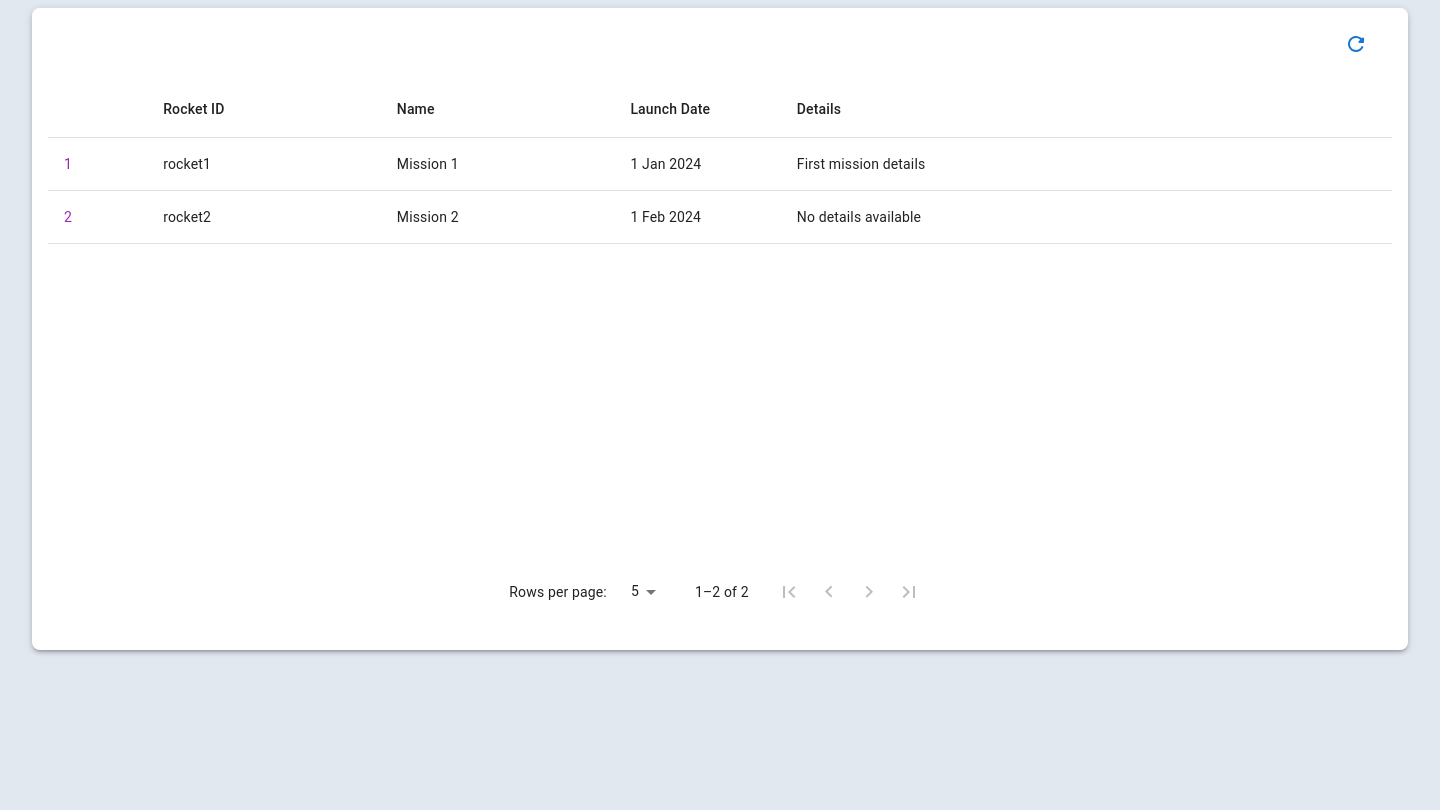
Test: LaunchDataTable › Sorting › sorts by date in ascending and descending order
First click - ascending
Click the button "Launch Date" at coordinates (670, 109), box [630,101,710,117]
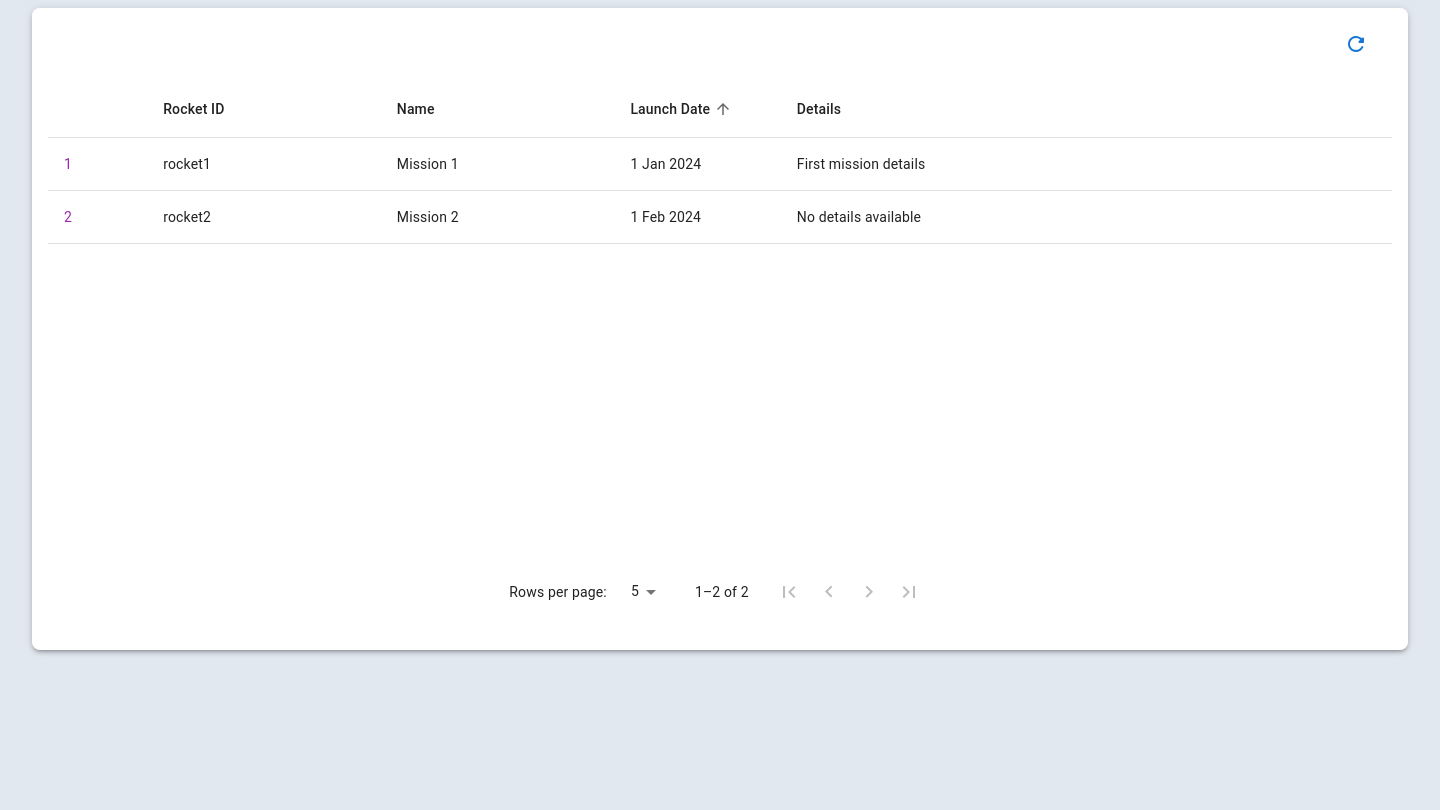
Check: the text "1 Jan 2024" is shown, box [614,138,781,191]
Second click - descending
Click the button "Launch Date" at coordinates (683, 109), box [630,97,736,121]
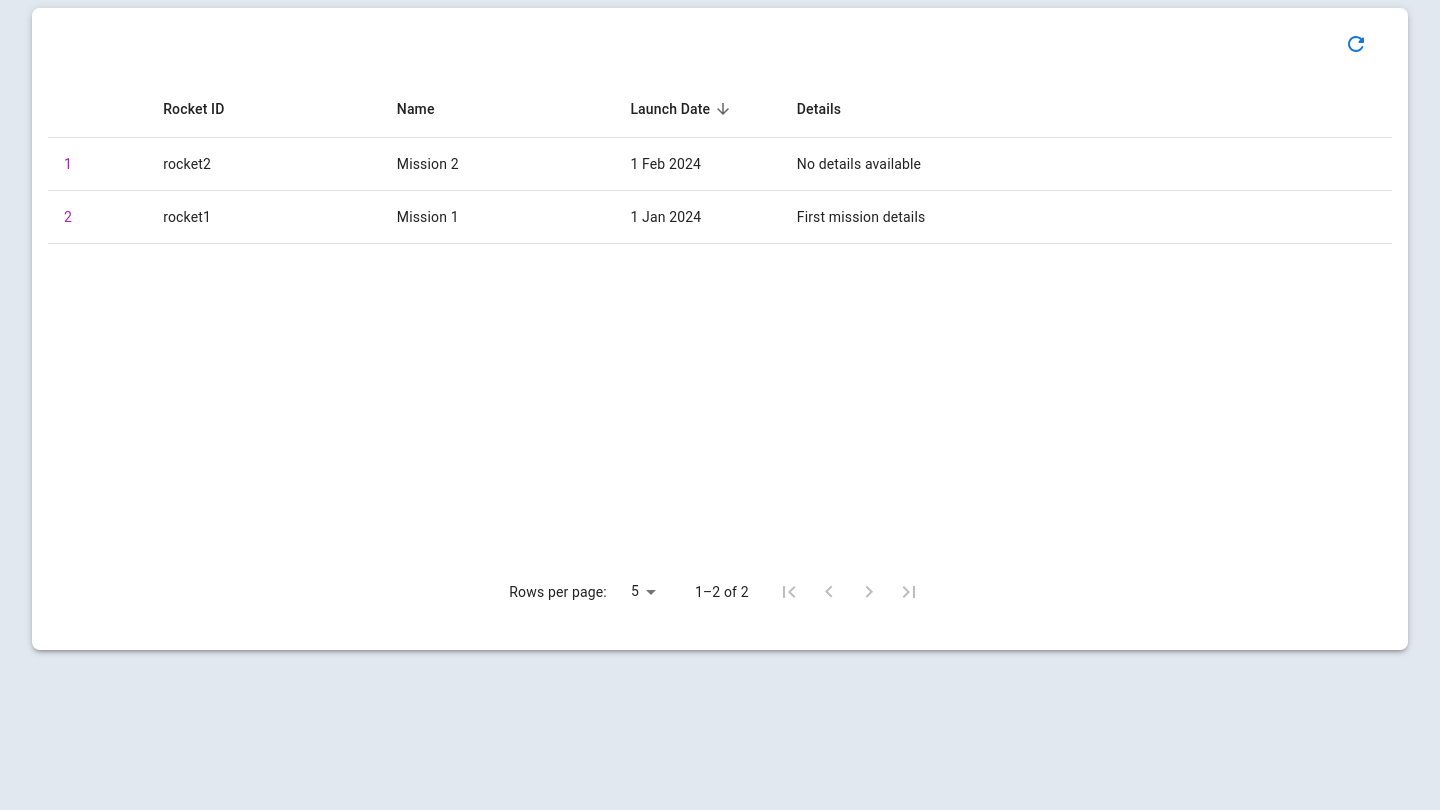
Check: the text "1 Feb 2024" is shown, box [614,138,781,191]
